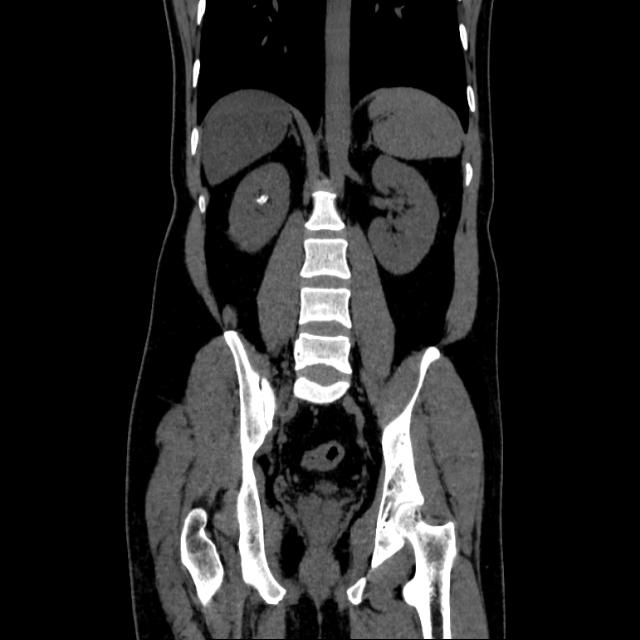kidneystone: (256, 193, 269, 205)
